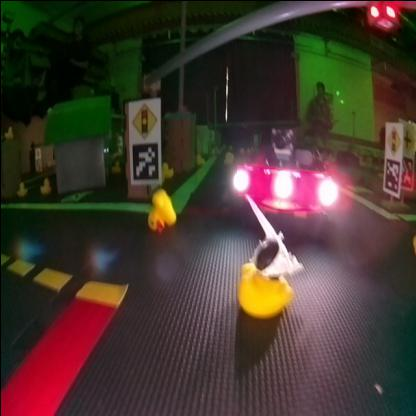Duckie: (146, 188, 174, 230), (160, 160, 172, 176), (39, 176, 49, 193), (14, 180, 26, 194), (3, 125, 12, 137)
Duckiebot: (231, 127, 335, 220)
Intersection sign: (402, 124, 412, 154)
QR code: (130, 142, 156, 180), (383, 156, 398, 192), (400, 155, 412, 186)
Signal sign: (130, 100, 156, 136), (386, 126, 400, 152)
Traffic light: (367, 2, 397, 31)
